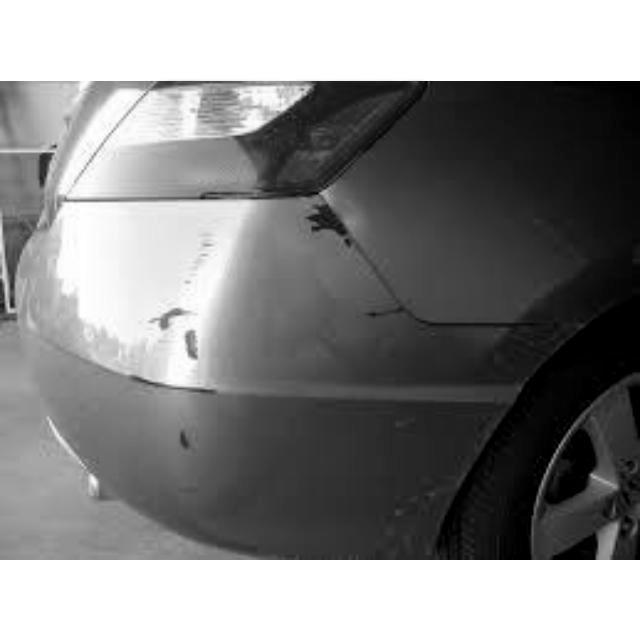rear-bumper-dent: (42, 179, 380, 557)
